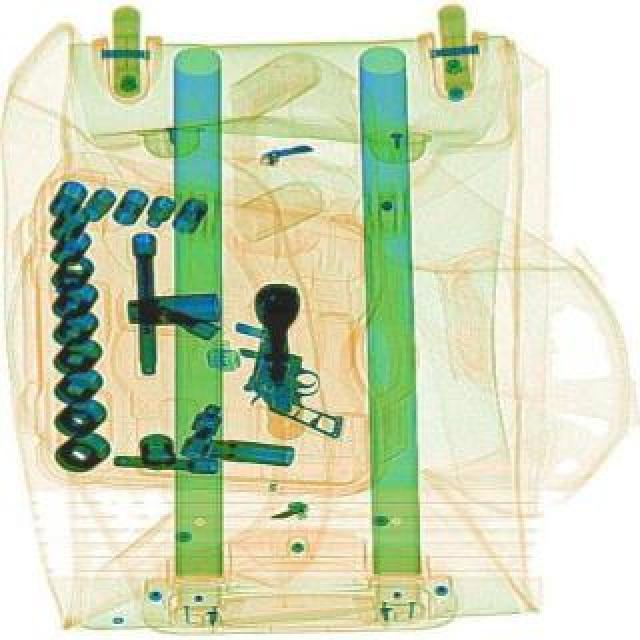gun: (238, 284, 370, 438)
